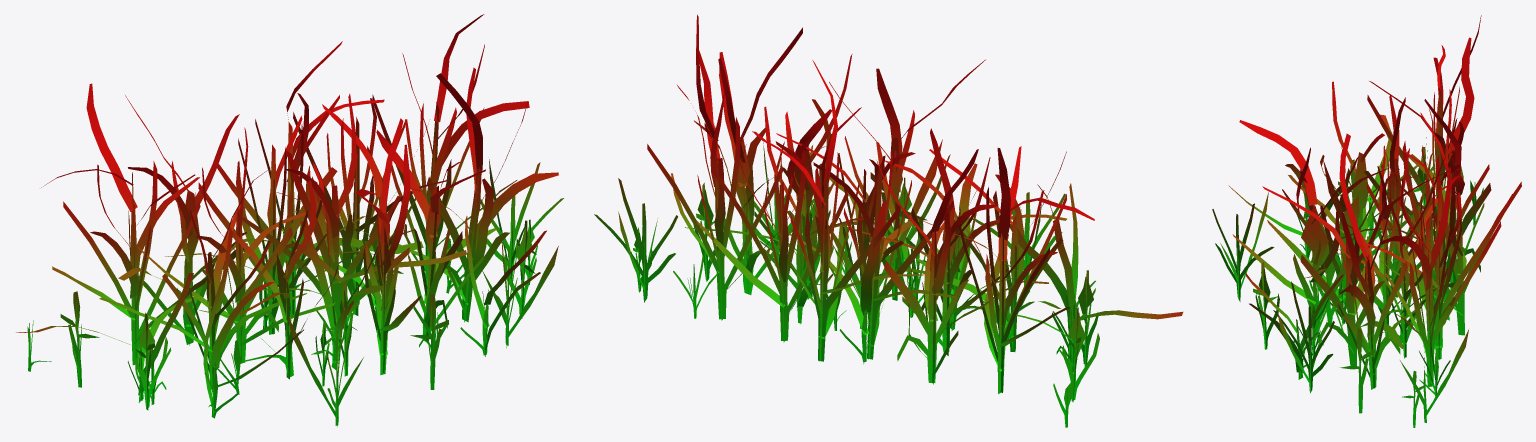
Rendered from Var2_LOD0.fbx.
3 renders of one model, left to right at view 1: azimuth 30°, elevation 25°; view 2: azimuth 150°, elevation 25°; view 3: azimuth 270°, elevation 25°, orthographic. The views are drawn at different scales.
Visible parts, largest first — view 1: _svps_Var2_LOD0; view 2: _svps_Var2_LOD0; view 3: _svps_Var2_LOD0.
Part boxes in pixels (<box>): _svps_Var2_LOD0: <box>16,14,563,426</box>; _svps_Var2_LOD0: <box>594,14,1183,427</box>; _svps_Var2_LOD0: <box>1212,15,1521,427</box>.
Size of the model in its own units: 51.74 by 25.22 by 27.4.
